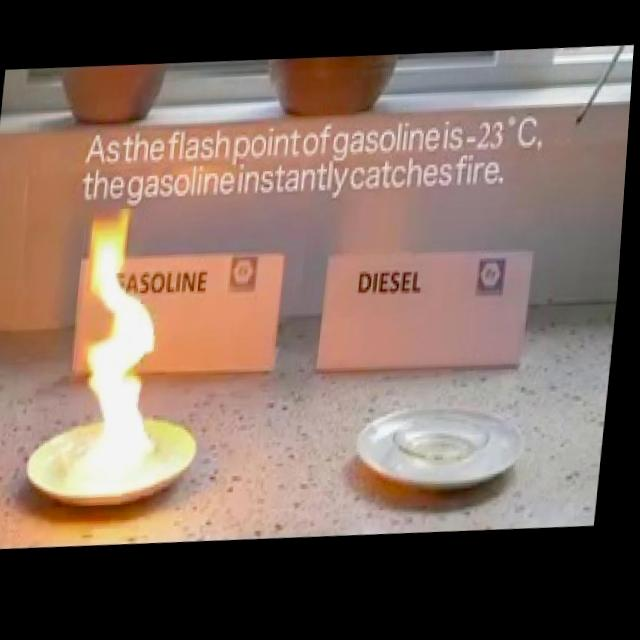Fire: (42, 197, 193, 503)
